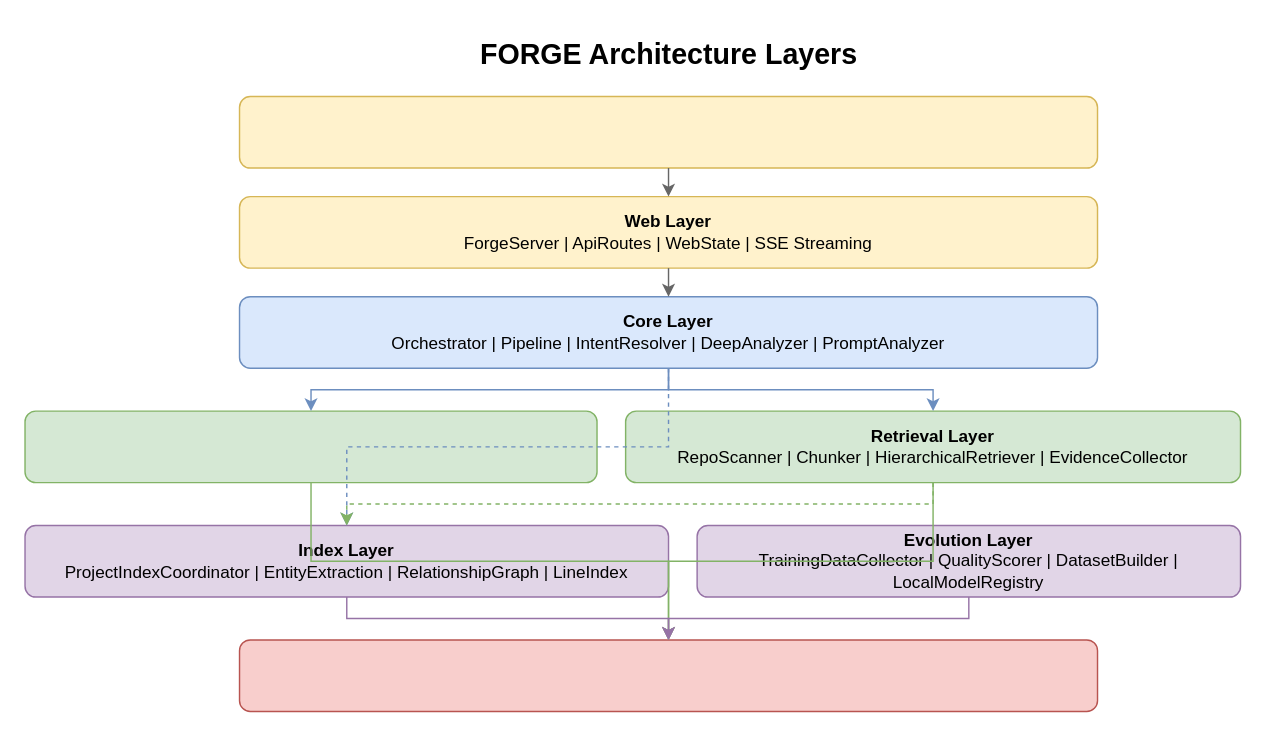
This 1266x736 diagram has some shape labels left out. Here are the shapes that lost their labels. From the top down, the centre of each, then its label:
At pixel 668 131: "CLI Layer Main.kt | Commands | ArgParser".
At pixel 310 446: "LLM Layer OllamaClient | ModelSelector | AgentOrchestrator | ResponseParser".
At pixel 668 674: "Storage Layer Database/SQLite | WorkspaceManager | EmbeddingStore".
